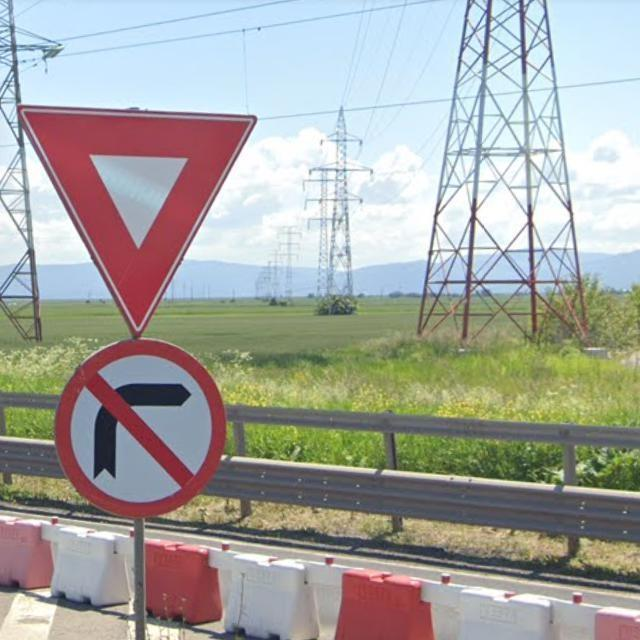prio_give_way: (14, 102, 258, 338)
